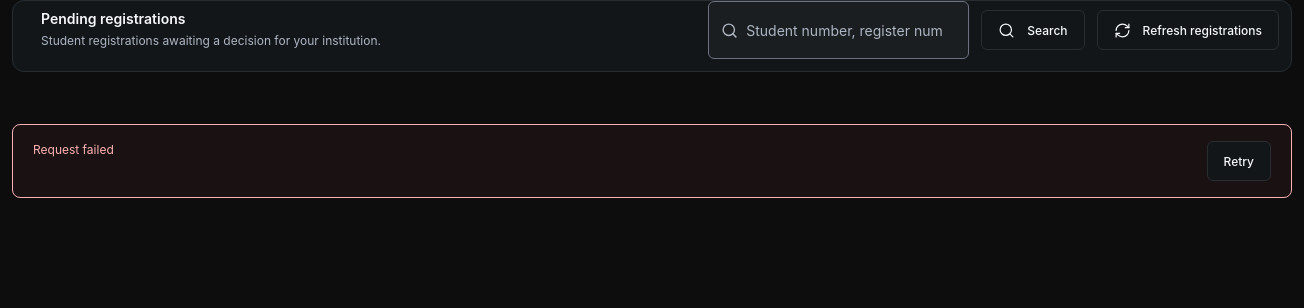
Test: StaffApprovals queue states › shows an error state with retry and recovers
This screenshot has width=1304, height=308.
Expected: the message "Request failed Retry" is shown, x1=12 y1=124 x2=1292 y2=198
What coordinates should you click on to do the following:
click the button "Retry"
I would click on:
 (1239, 161)
Its box is x1=1206 y1=141 x2=1271 y2=181.
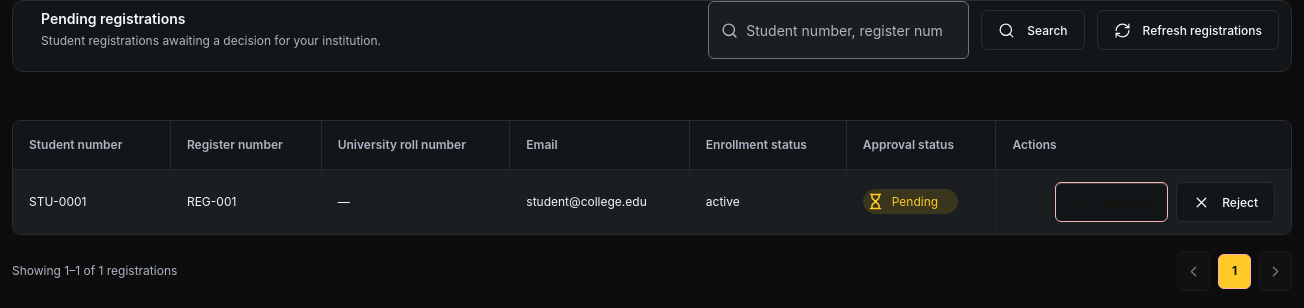
Expected: the text "STU-0001" is shown, x1=13 y1=169 x2=171 y2=234
